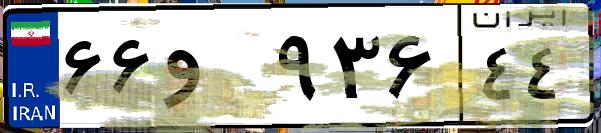3: (330, 28, 385, 110)
4: (475, 38, 525, 113), (525, 38, 570, 115)
6: (385, 28, 445, 110), (57, 26, 110, 100), (110, 28, 158, 98)
9: (270, 28, 330, 110)
و: (158, 20, 270, 120)
